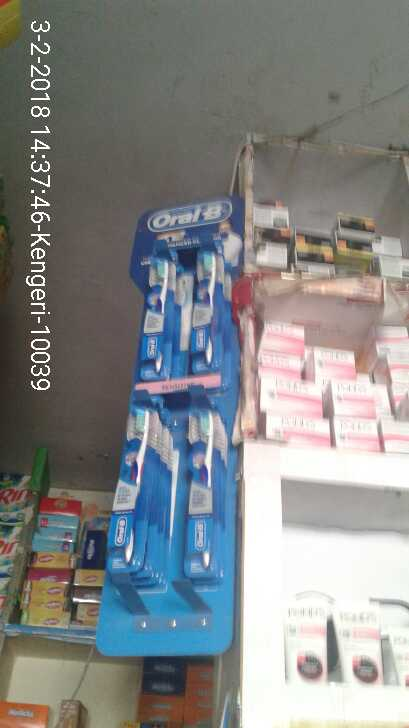oralb: (176, 408, 215, 592), (120, 403, 155, 574), (133, 253, 179, 378), (188, 254, 232, 368)
